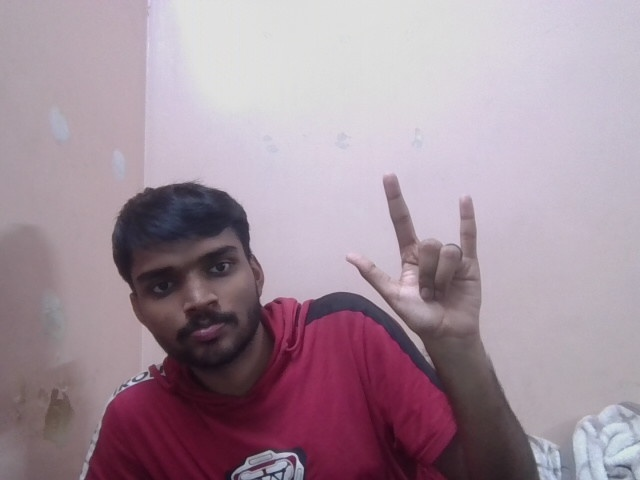I Love You: (347, 171, 482, 333)
